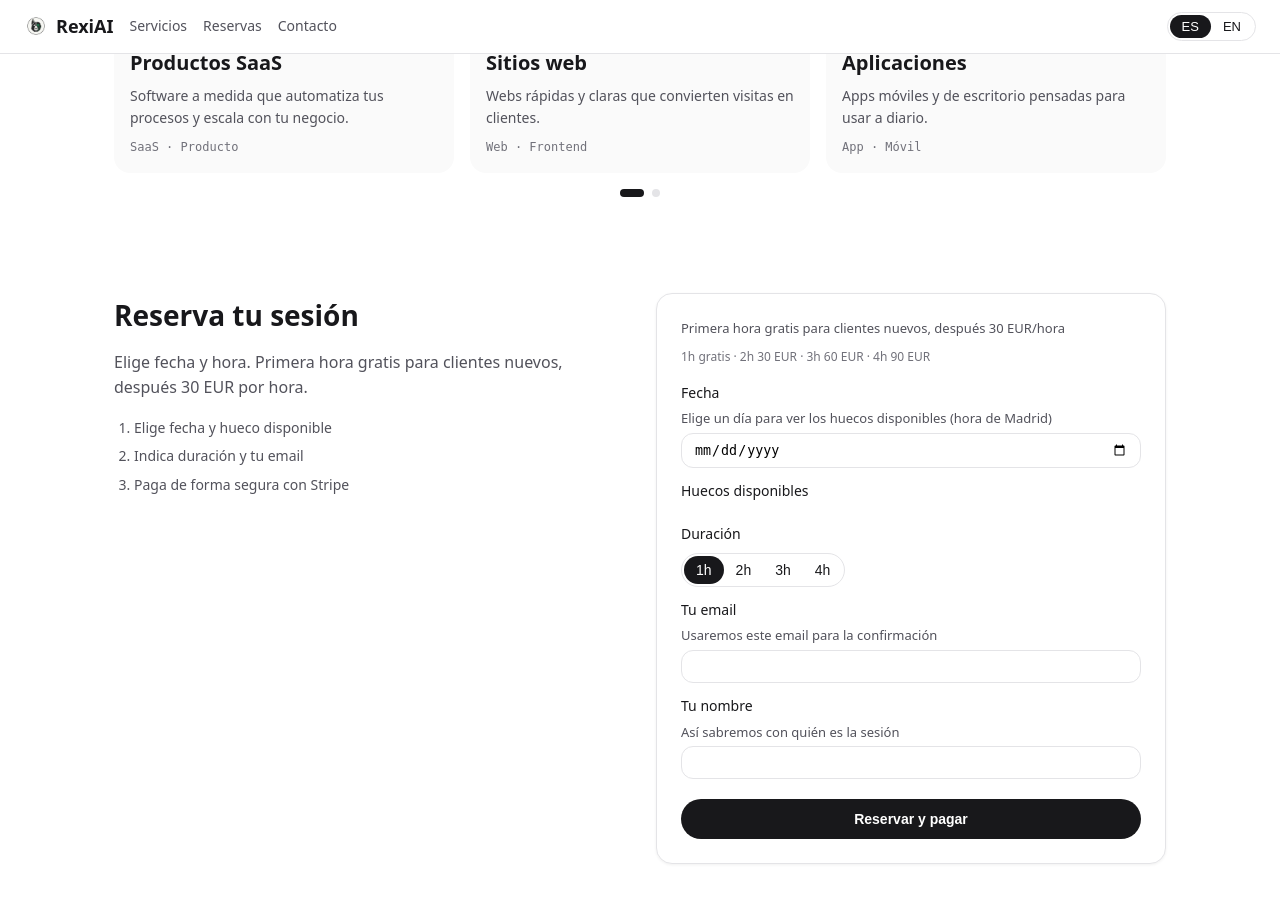
it: AC-002-17: confirmation panel replaces the form (es) › AC-002-17: panel renders inline instead of the form with dictionary copy
(page scrolled)
Type "2027-03-01" into the date field with id "booking-date" at (911, 451), box [681,433,1141,468]
(page scrolled)
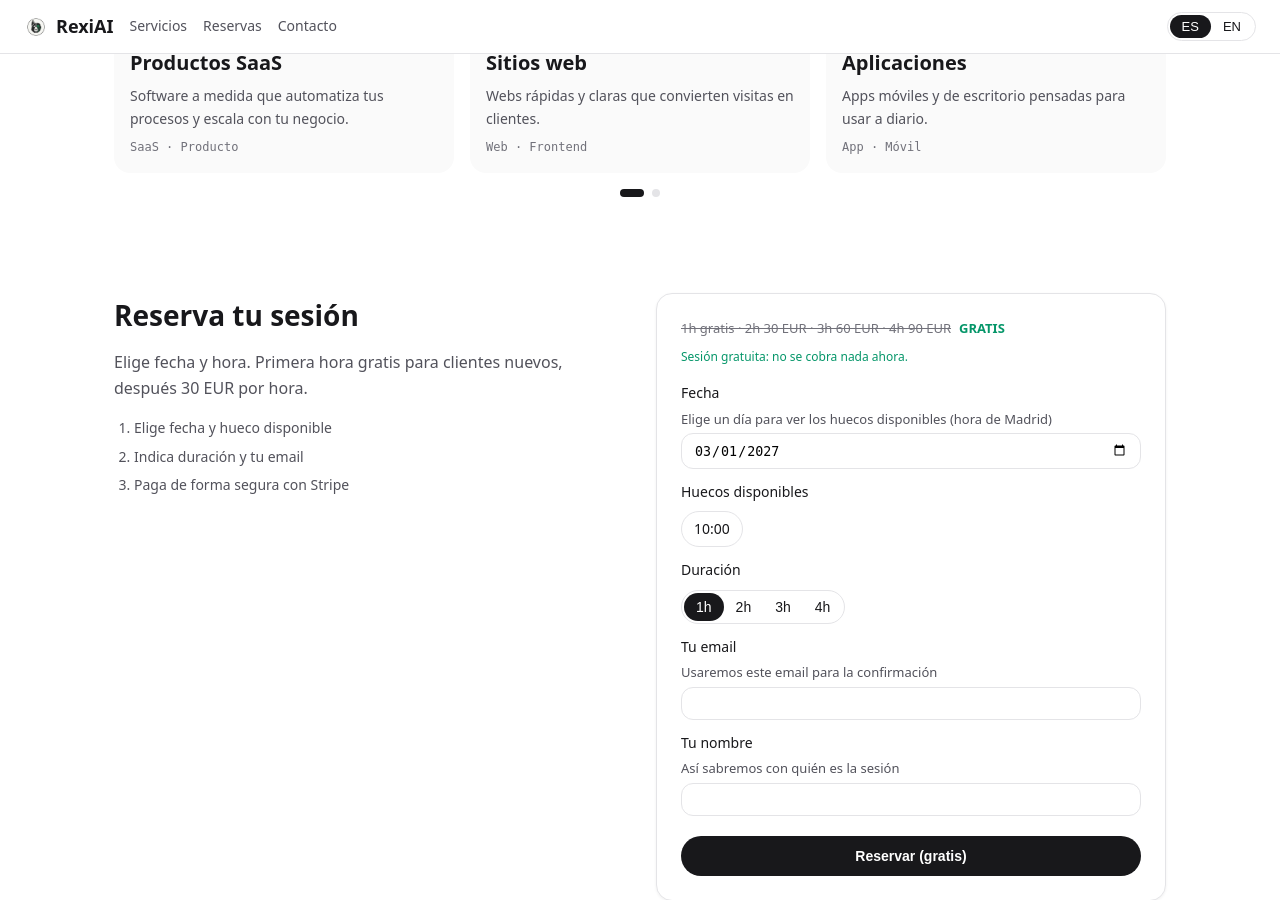
Result: the radio button "10:00" is shown
Click the radio button "10:00" at (712, 529), box [681,511,743,548]
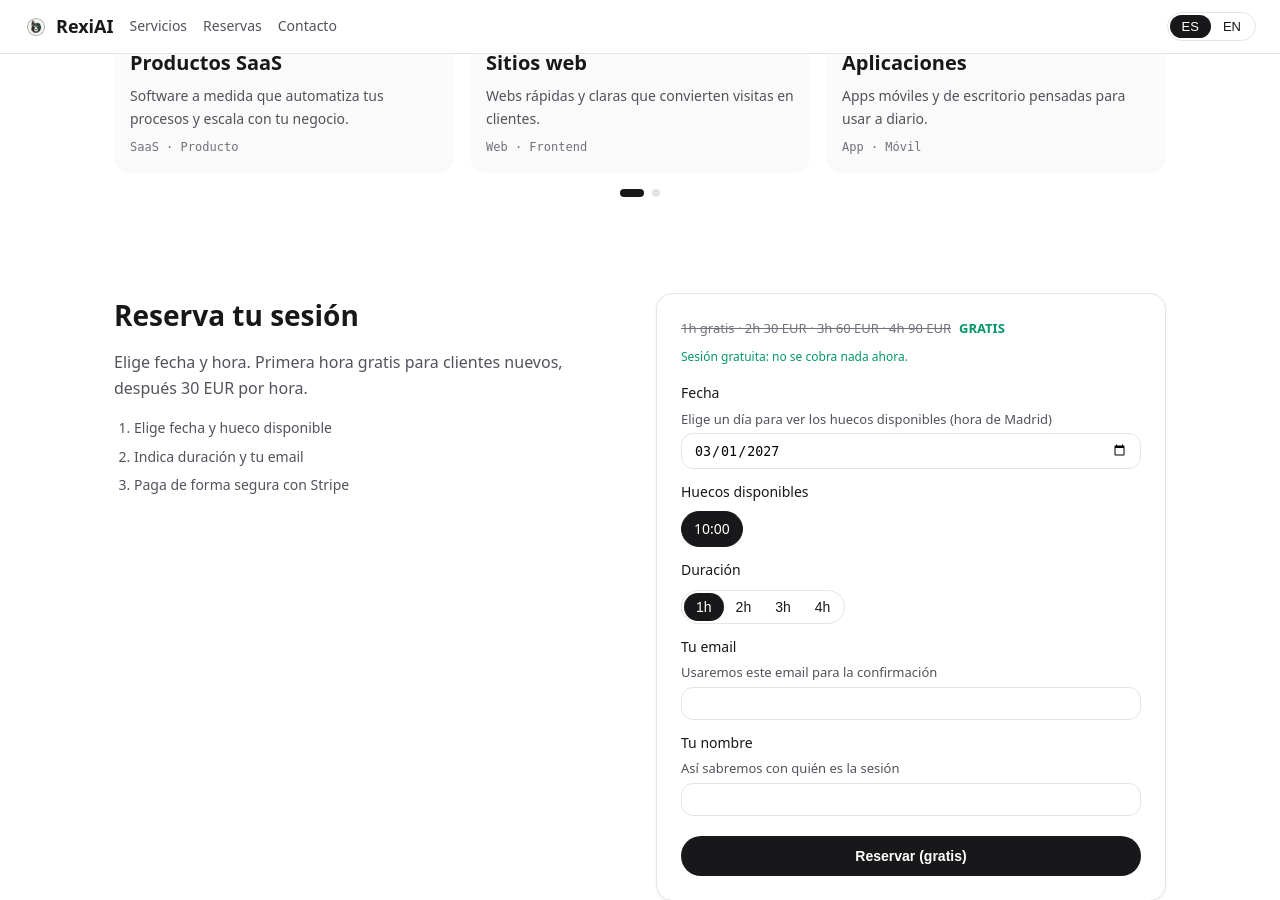
Type "test@example.com" into the field with id "booking-email" at (911, 704), box [681,687,1141,720]
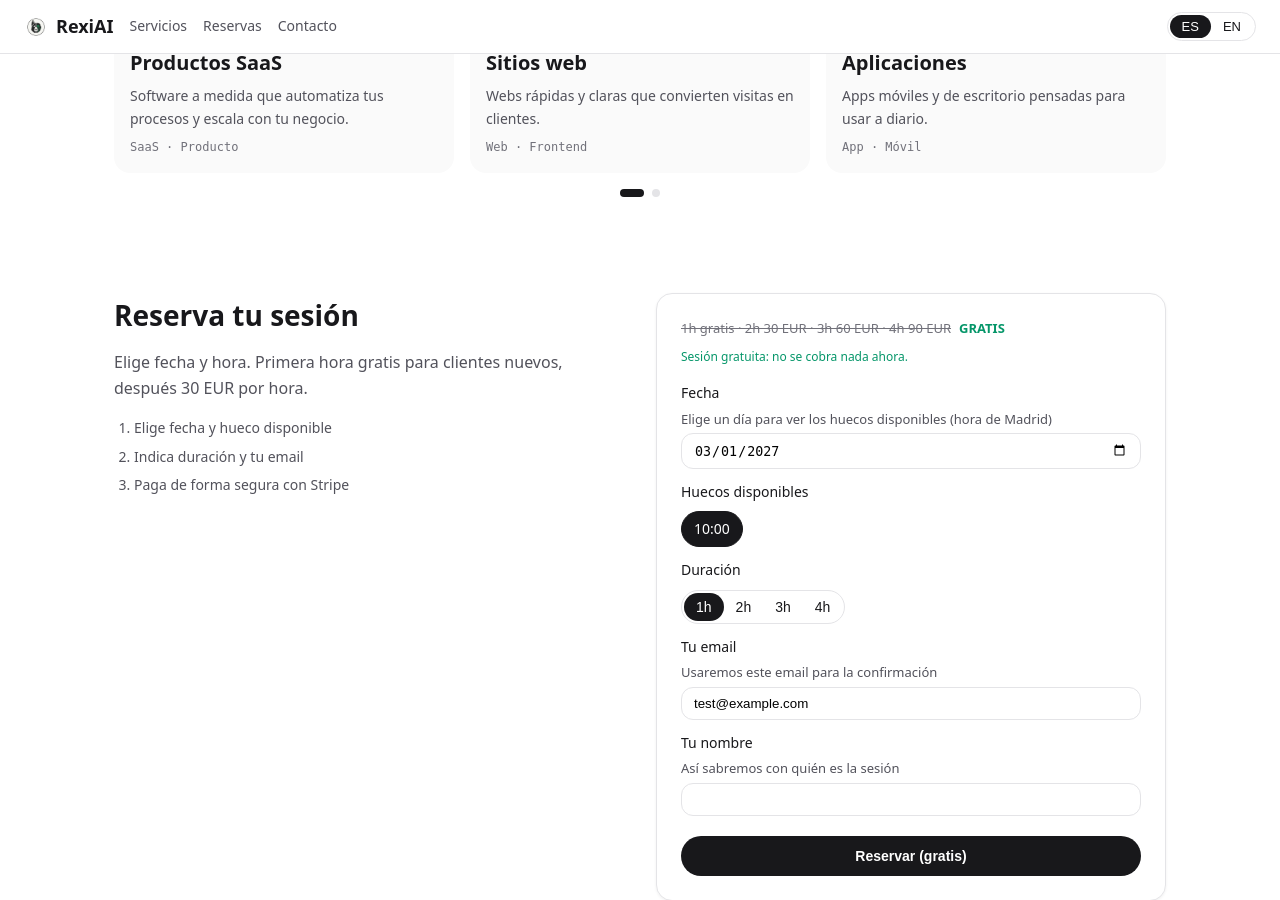
Type "Ana López" into the field with id "booking-name" at (911, 800), box [681,783,1141,816]
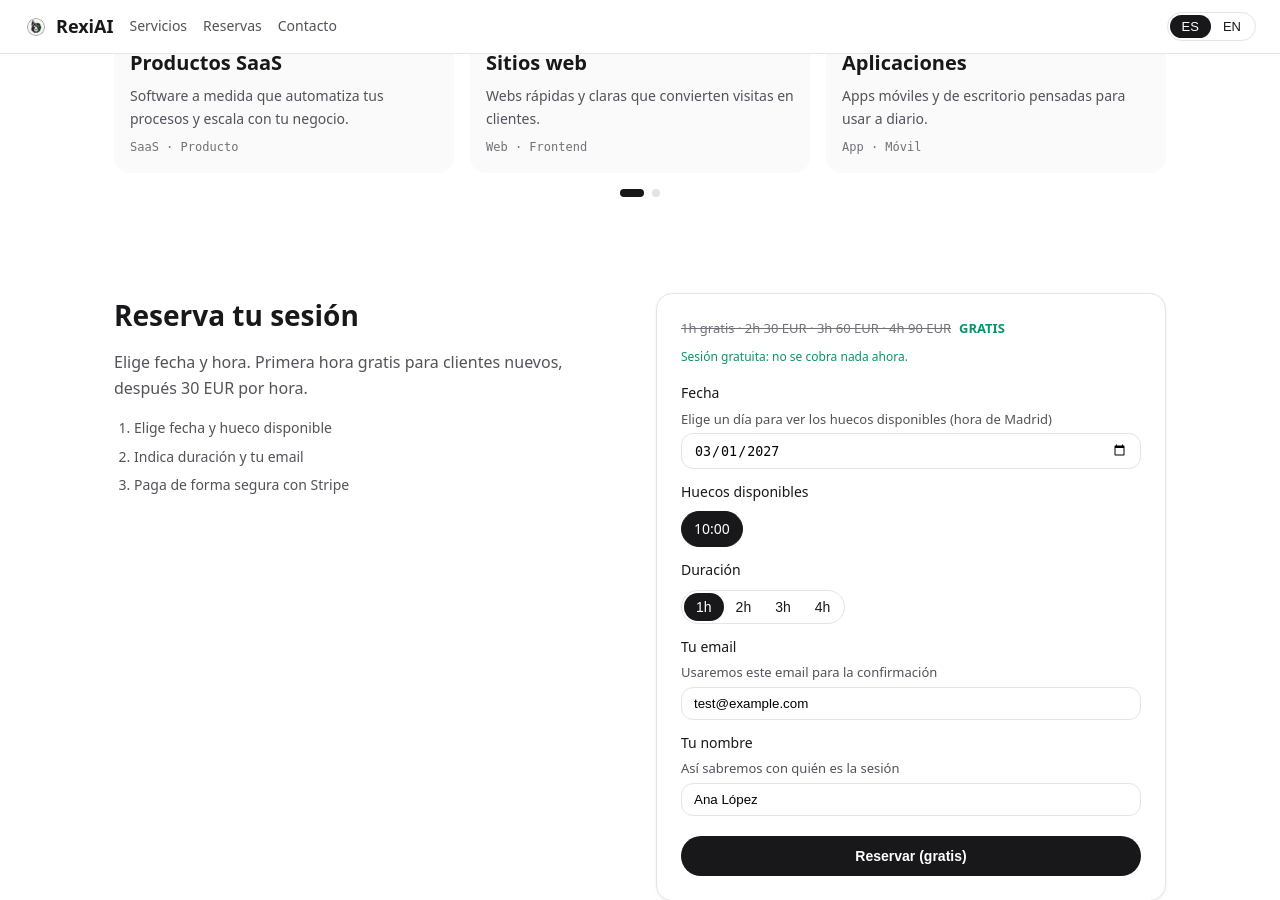
Click the button "Reservar (gratis)" at (911, 856), box [681,836,1141,876]
(page scrolled)
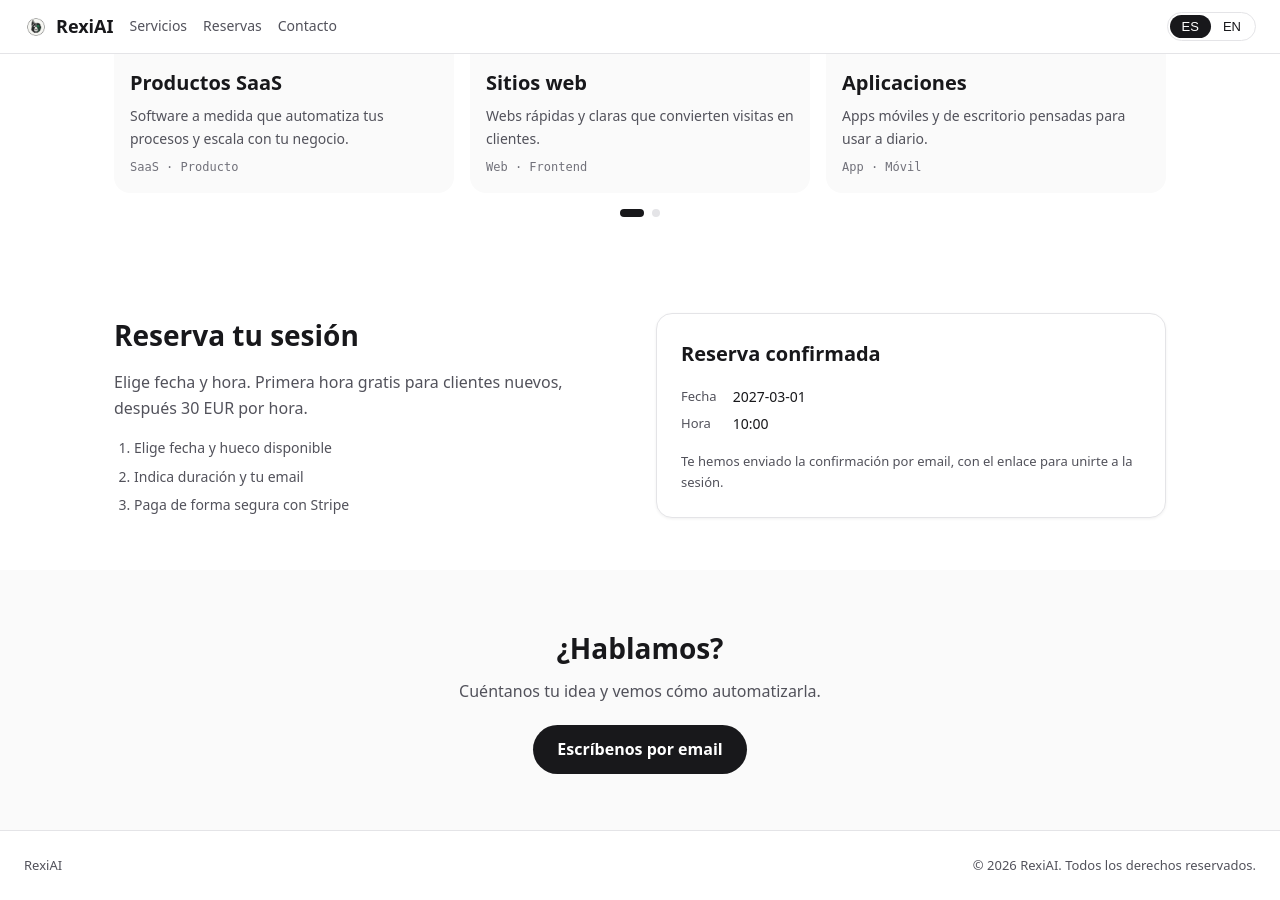
Result: the heading "Reserva confirmada" is shown at [681,340,881,367]
Result: the message with class "booking-confirmation" is shown at [681,338,1141,493]
Result: the form is gone
